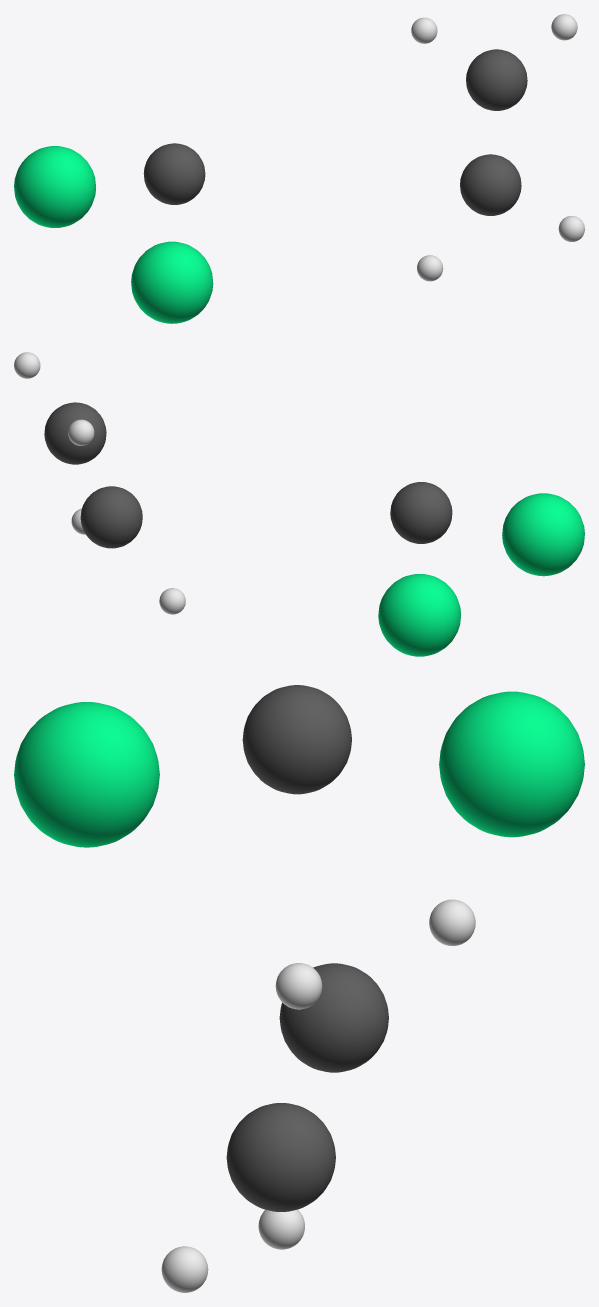
Rendered from AdE_Carbene_addtion.fbx.
The picture shows the model from 3 angles, top to bottom: view 1: azimuth 30°, elevation 25°; view 2: azimuth 150°, elevation 25°; view 3: azimuth 270°, elevation 25°; orthographic projection. The views are drawn at different scales.
Parts seen in each view (by area): view 1: Cl04, Cl05, C01, C02, C03, H06, H07, H08, H09; view 2: Cl04, Cl05, C02, C03, C01, H06, H07, H08; view 3: Cl04, Cl05, C03, C02, C01, H07, H09, H06, H08.
Boxes of the visible parts, x1=… form: Cl04: x1=131, y1=241, x2=213, y2=323; Cl05: x1=14, y1=146, x2=95, y2=227; C01: x1=466, y1=49, x2=527, y2=110; C02: x1=460, y1=154, x2=521, y2=215; C03: x1=143, y1=143, x2=205, y2=204; H06: x1=411, y1=17, x2=437, y2=43; H07: x1=551, y1=14, x2=577, y2=40; H08: x1=417, y1=255, x2=443, y2=281; H09: x1=558, y1=216, x2=584, y2=241; Cl04: x1=502, y1=493, x2=584, y2=576; Cl05: x1=378, y1=574, x2=460, y2=656; C02: x1=80, y1=486, x2=142, y2=548; C03: x1=390, y1=482, x2=452, y2=543; C01: x1=44, y1=402, x2=106, y2=464; H06: x1=68, y1=419, x2=94, y2=445; H07: x1=14, y1=352, x2=40, y2=378; H08: x1=159, y1=588, x2=185, y2=614; Cl04: x1=14, y1=702, x2=159, y2=847; Cl05: x1=439, y1=691, x2=584, y2=837; C03: x1=242, y1=685, x2=351, y2=794; C02: x1=226, y1=1103, x2=335, y2=1211; C01: x1=279, y1=963, x2=388, y2=1072; H07: x1=275, y1=963, x2=322, y2=1009; H09: x1=161, y1=1246, x2=208, y2=1292; H06: x1=429, y1=899, x2=475, y2=945; H08: x1=258, y1=1209, x2=304, y2=1249.
Size of the model in its own units: 700 by 305 by 391.
